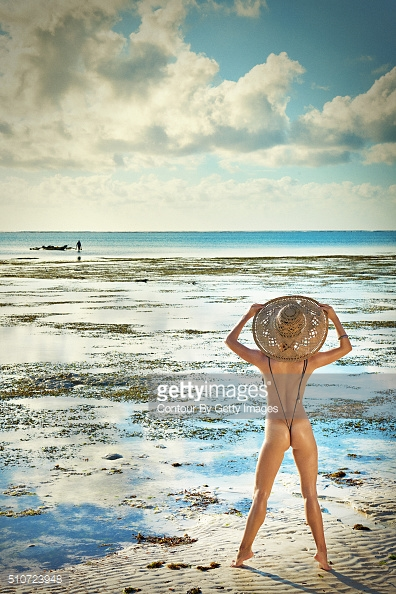em pe: (210, 270, 352, 593)
